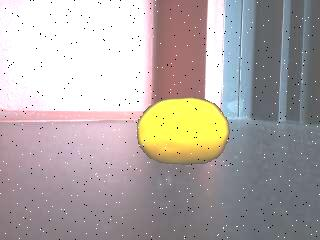Lemon: (136, 98, 231, 168)
